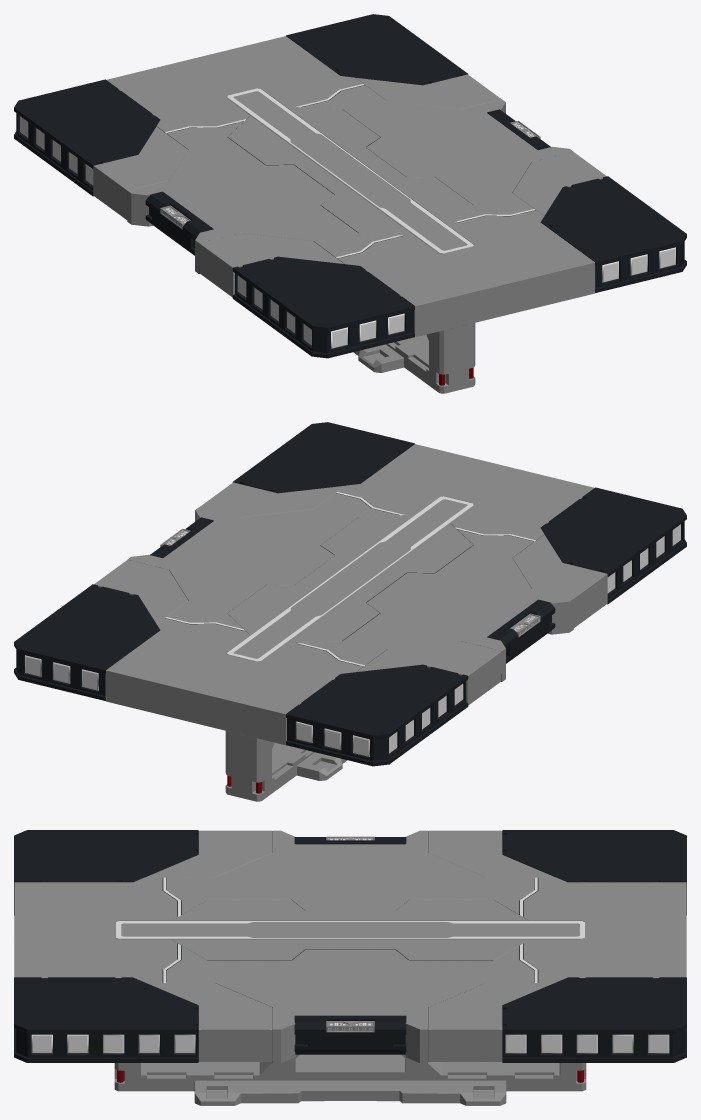
File: Ship_Room_Main_Table_Rising_001_v002.fbx
3 views of the same model, one above another, from view 1: azimuth 30°, elevation 25°; view 2: azimuth 150°, elevation 25°; view 3: azimuth 270°, elevation 25° (orthographic). The views are drawn at different scales.
Visible parts, largest first — view 1: Ship_Room_Main_TableRising_Top_001, Ship_Room_Main_TableRising_Bottom_001; view 2: Ship_Room_Main_TableRising_Top_001, Ship_Room_Main_TableRising_Bottom_001; view 3: Ship_Room_Main_TableRising_Top_001, Ship_Room_Main_TableRising_Bottom_001.
Boxes of the visible parts, x1,y1,x2,y2 form: Ship_Room_Main_TableRising_Top_001: (14, 14, 686, 358); Ship_Room_Main_TableRising_Bottom_001: (226, 87, 475, 393); Ship_Room_Main_TableRising_Top_001: (14, 422, 686, 766); Ship_Room_Main_TableRising_Bottom_001: (225, 495, 474, 801); Ship_Room_Main_TableRising_Top_001: (14, 830, 686, 1063); Ship_Room_Main_TableRising_Bottom_001: (114, 920, 586, 1105).
Size of the model in its own units: 350 by 125 by 500.
